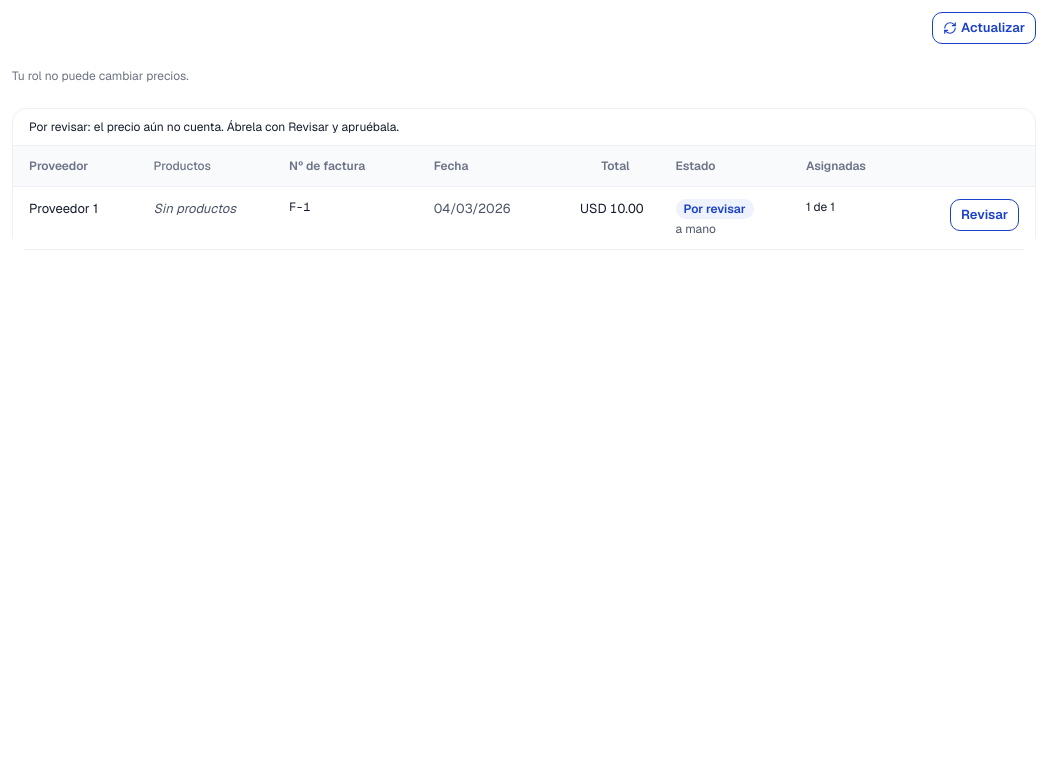
Test: Compras: Revisar inline › read-only users still open the panel, edits disabled
What coordinates should you click on to do the following:
click the button "Revisar"
I would click on:
 (985, 215)
Its box is [950, 199, 1019, 231].
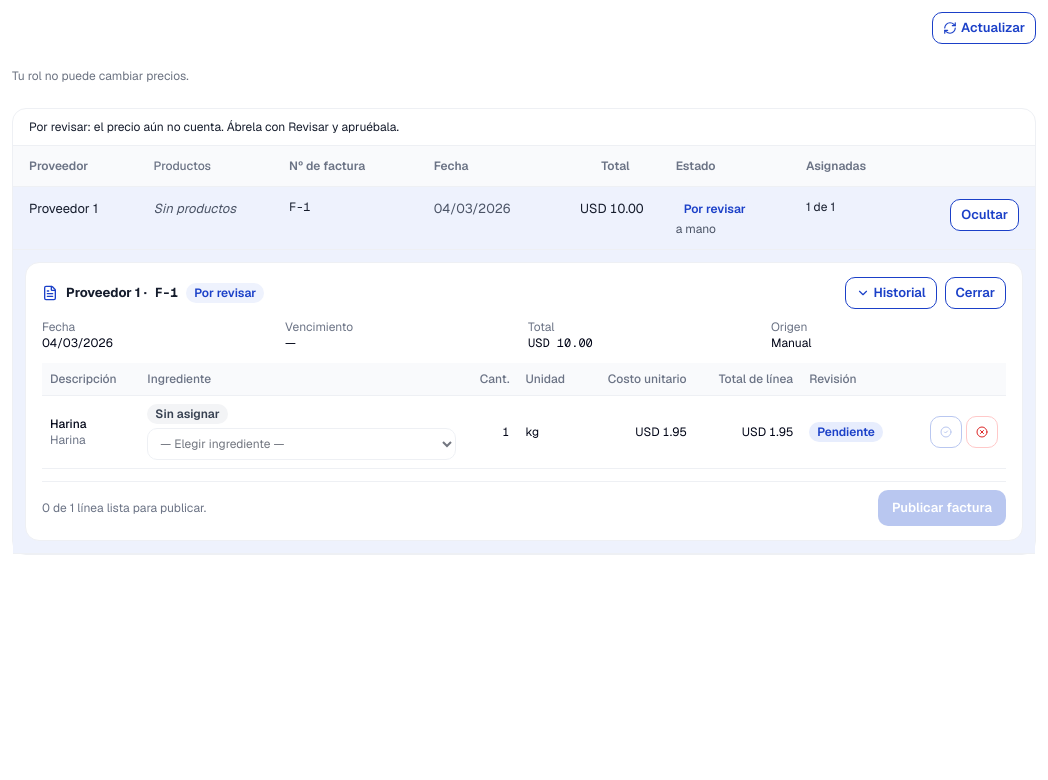
Expected: the button "Publicar factura" is disabled, [878, 490, 1006, 526]
